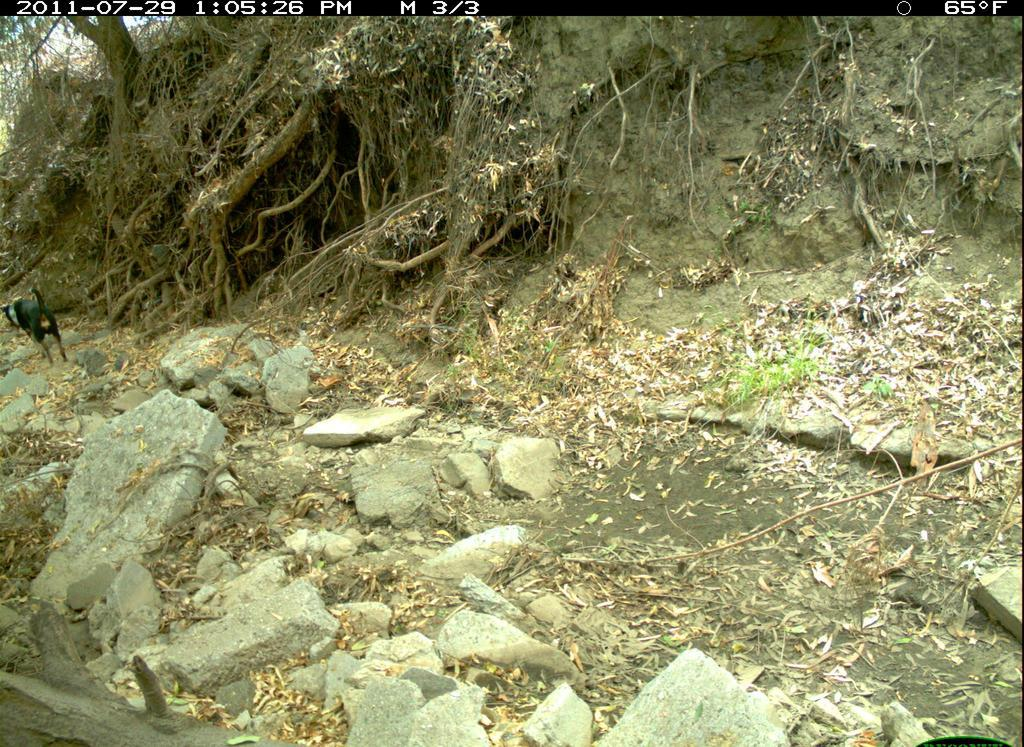dog: (1, 274, 86, 386)
